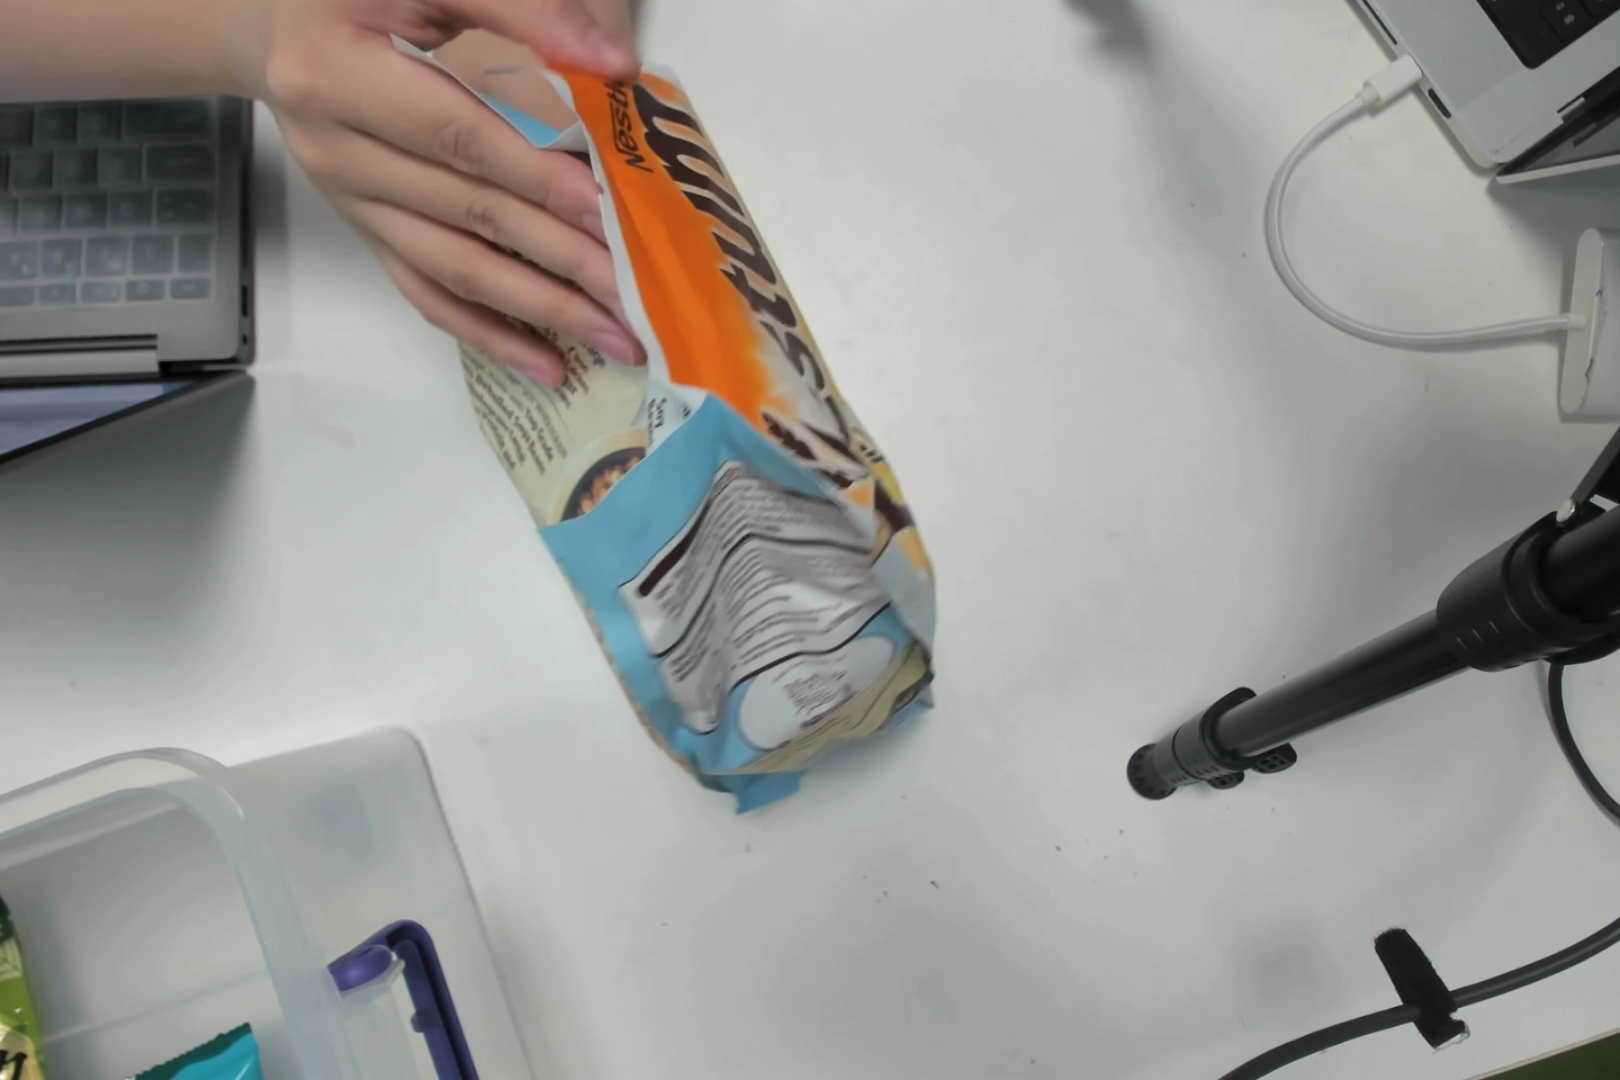e: (603, 90, 925, 793)
